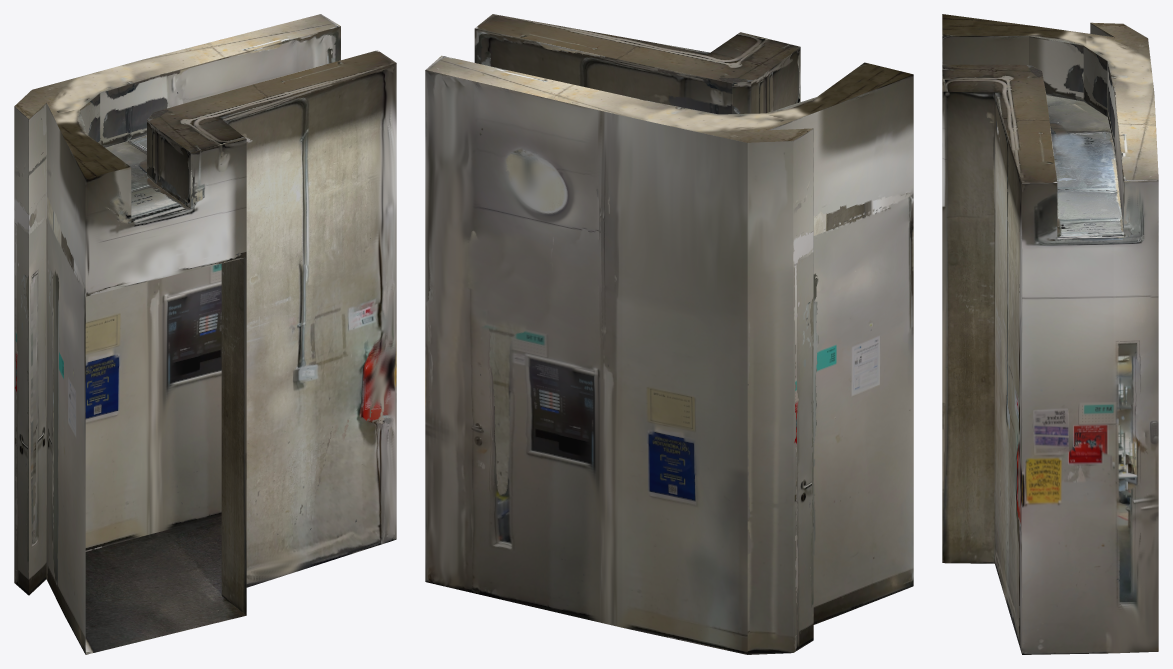
Rendered from 1stfloorlittlecor.fbx.
The picture shows the model from 3 angles, left to right: view 1: azimuth 30°, elevation 25°; view 2: azimuth 150°, elevation 25°; view 3: azimuth 270°, elevation 25°; orthographic projection. The views are drawn at different scales.
Visible parts, largest first — view 1: 1-back-cor-lp-fn; view 2: 1-back-cor-lp-fn; view 3: 1-back-cor-lp-fn.
Part boxes in pixels (x1=…): 1-back-cor-lp-fn: x1=14, y1=14, x2=396, y2=654; 1-back-cor-lp-fn: x1=425, y1=14, x2=913, y2=654; 1-back-cor-lp-fn: x1=942, y1=14, x2=1158, y2=654.
Bounding box in the file's own units: 244 × 316 × 132.
